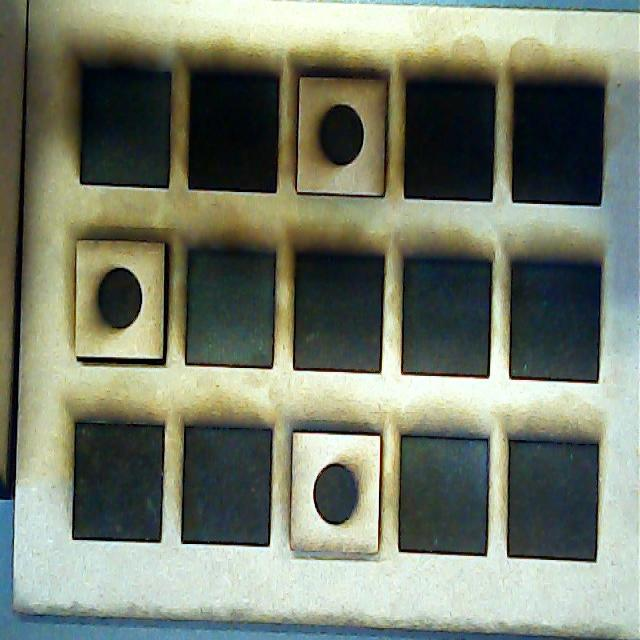circle: (76, 240, 169, 371), (296, 69, 388, 198), (289, 431, 382, 555)
